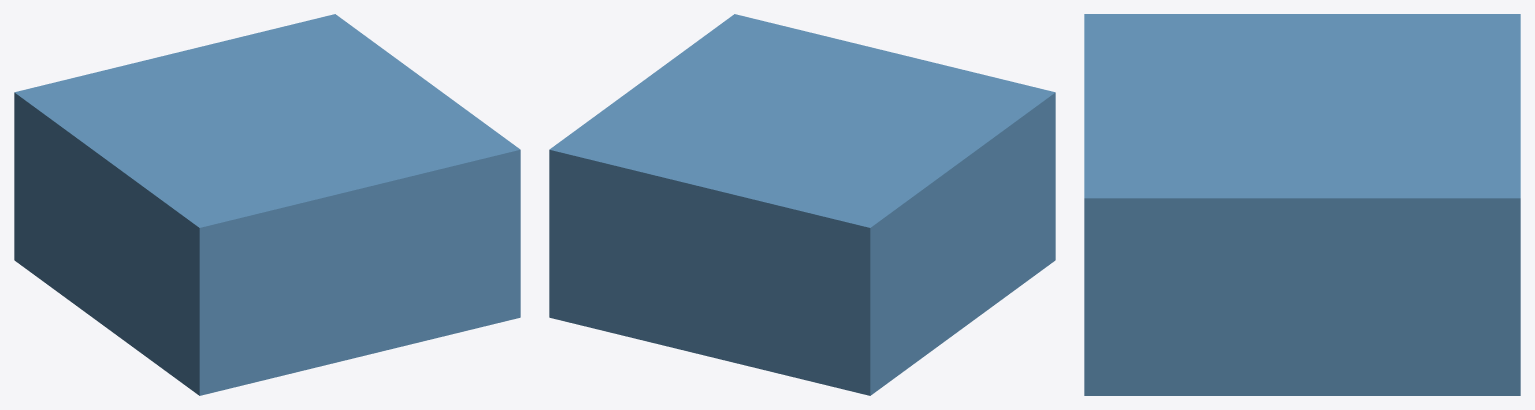
The model's file is Water_Half.glb.
The picture shows the model from 3 angles, left to right: view 1: azimuth 30°, elevation 25°; view 2: azimuth 150°, elevation 25°; view 3: azimuth 270°, elevation 25°; orthographic projection. The views are drawn at different scales.
Visible parts, largest first — view 1: Water_Half_body; view 2: Water_Half_body; view 3: Water_Half_body.
Boxes of the visible parts, bbox=[...] form: Water_Half_body: bbox=[14, 14, 520, 395]; Water_Half_body: bbox=[549, 14, 1055, 395]; Water_Half_body: bbox=[1084, 14, 1520, 395].
Size of the model in its own units: 1 by 0.5 by 1.
